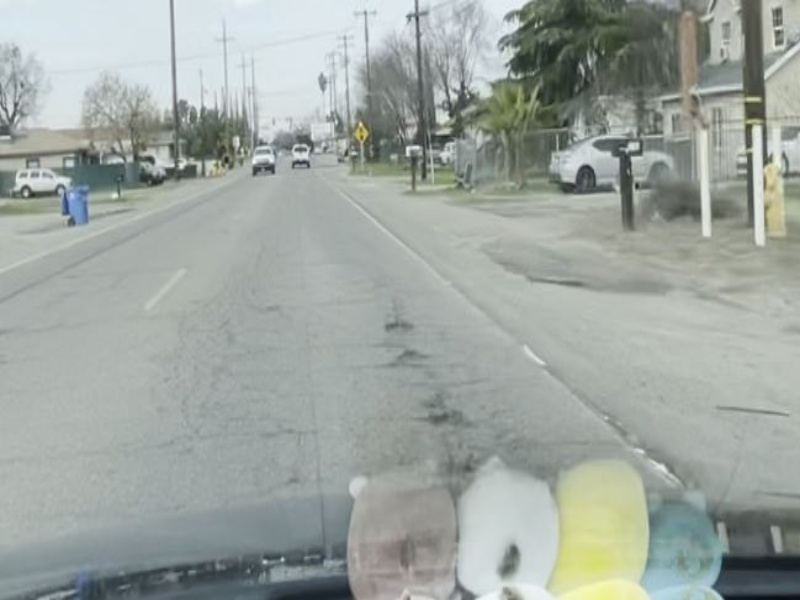pothole: (427, 410, 472, 433), (384, 313, 419, 337), (391, 345, 430, 365)
